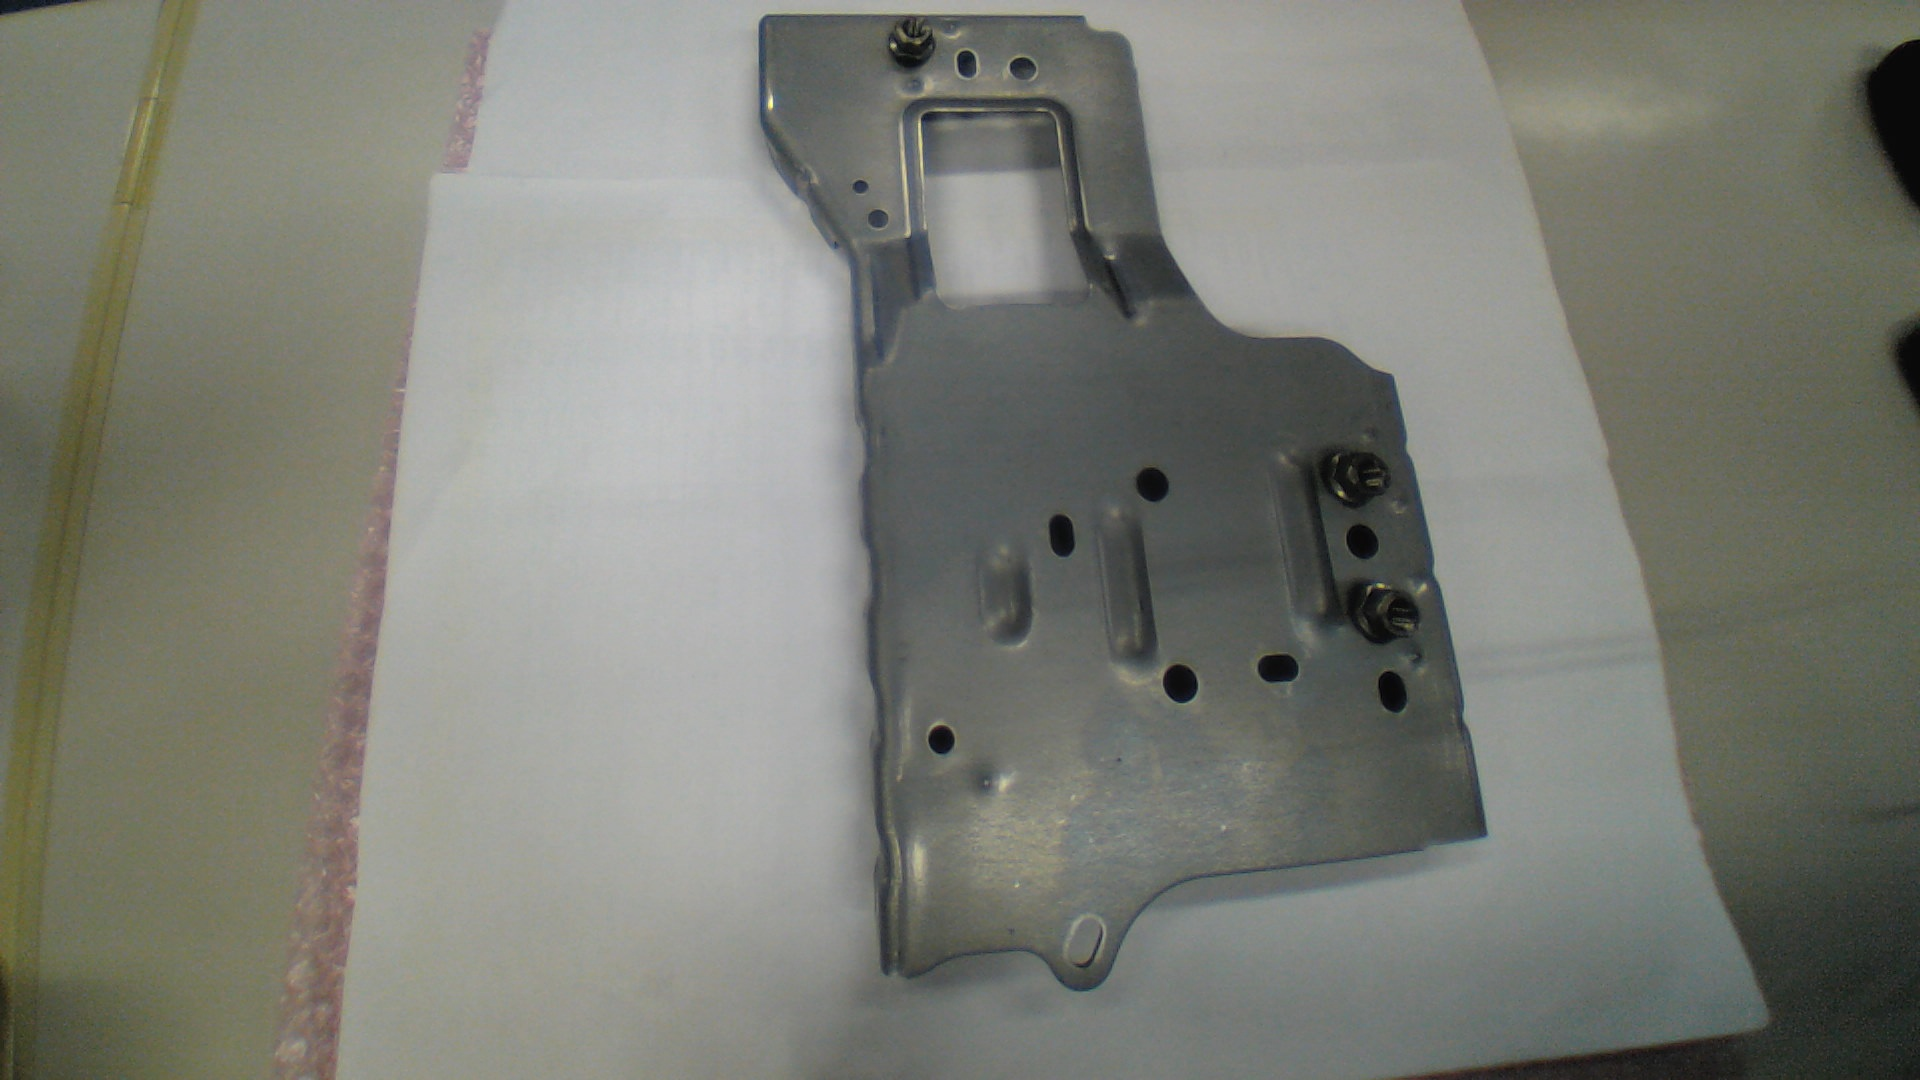dog: (1352, 578, 1422, 646), (1320, 448, 1391, 509), (887, 15, 939, 70)
